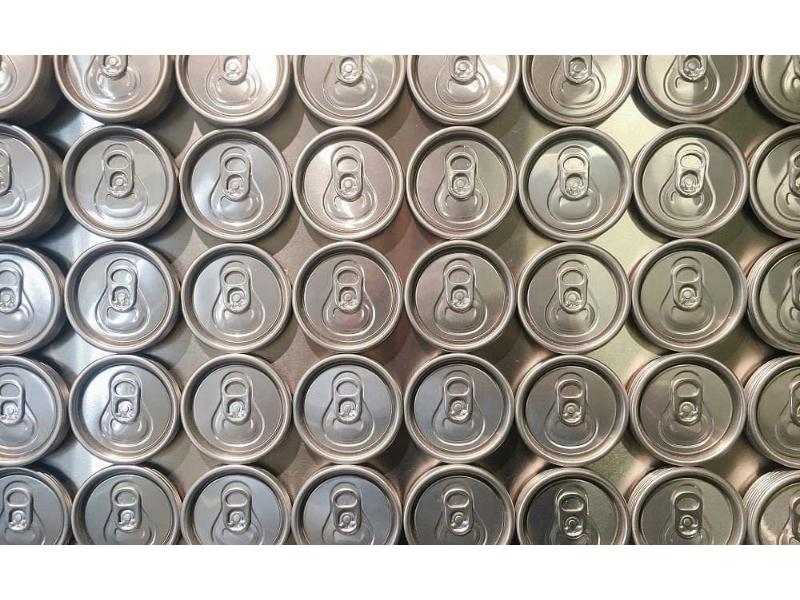can: (60, 237, 180, 355), (628, 354, 749, 468), (518, 124, 634, 242), (516, 240, 634, 356), (631, 124, 749, 239), (403, 237, 517, 355), (631, 239, 751, 351), (177, 128, 298, 239), (61, 126, 178, 239), (513, 355, 629, 467), (293, 240, 406, 353), (290, 353, 404, 465), (400, 351, 514, 463), (178, 241, 294, 351), (408, 125, 516, 242), (179, 354, 292, 465), (66, 355, 180, 465), (295, 124, 405, 236), (515, 467, 633, 543), (290, 463, 403, 541), (180, 462, 290, 541), (630, 469, 747, 543), (402, 466, 515, 541), (69, 466, 180, 540), (404, 52, 521, 120), (0, 353, 70, 465), (176, 53, 294, 119), (53, 54, 172, 117), (0, 122, 60, 245), (296, 53, 406, 120), (635, 56, 754, 117), (0, 242, 65, 353), (521, 56, 639, 117), (751, 122, 799, 239), (749, 355, 799, 467), (750, 239, 799, 352), (0, 466, 69, 541), (747, 471, 799, 543), (755, 54, 799, 121), (0, 54, 47, 113)
